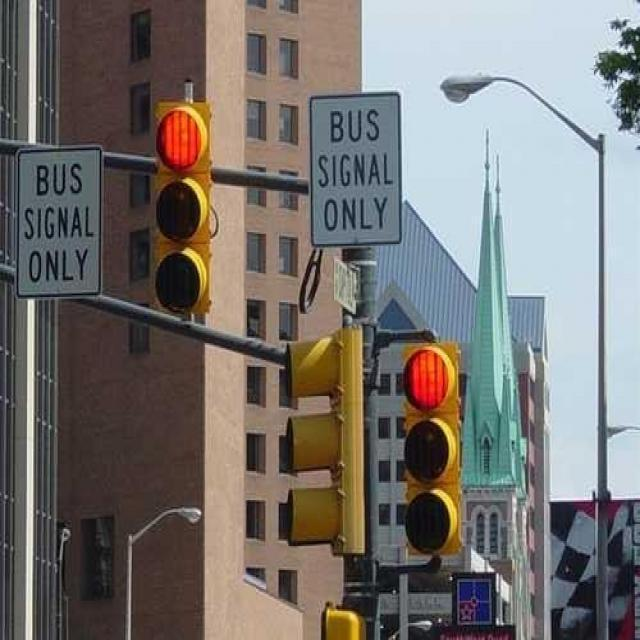red_light: (402, 341, 464, 558), (154, 99, 212, 316), (399, 410, 458, 486), (151, 100, 211, 172), (402, 343, 462, 413), (402, 489, 464, 556), (152, 174, 210, 242), (154, 246, 211, 315)
